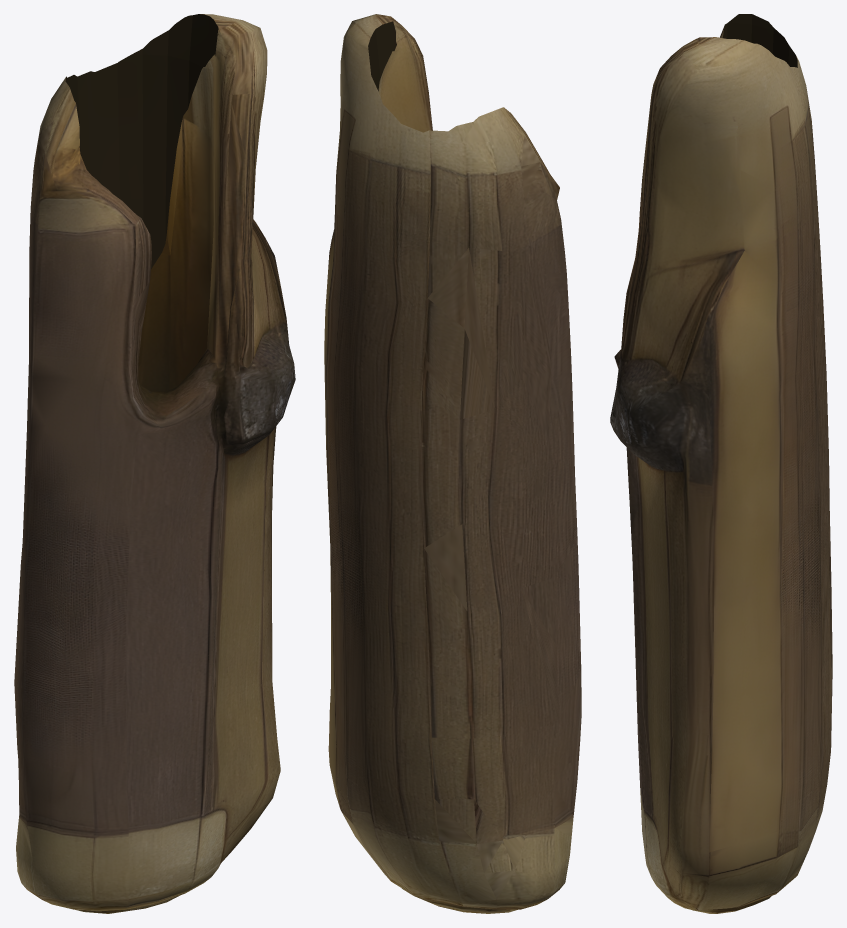
Rendered from PenSleeve.fbx.
The picture shows the model from 3 angles, left to right: view 1: azimuth 30°, elevation 25°; view 2: azimuth 150°, elevation 25°; view 3: azimuth 270°, elevation 25°; orthographic projection. The views are drawn at different scales.
Parts seen in each view (by area): view 1: PenSleeve_LOD0; view 2: PenSleeve_LOD0; view 3: PenSleeve_LOD0.
Boxes of the visible parts, bbox=[...] form: PenSleeve_LOD0: bbox=[14, 14, 295, 913]; PenSleeve_LOD0: bbox=[324, 14, 581, 913]; PenSleeve_LOD0: bbox=[610, 14, 832, 913].
Size of what is drawn, in the model's own units: 0.036 by 0.116 by 0.026.
Materials: 1 (1 with a texture image).
